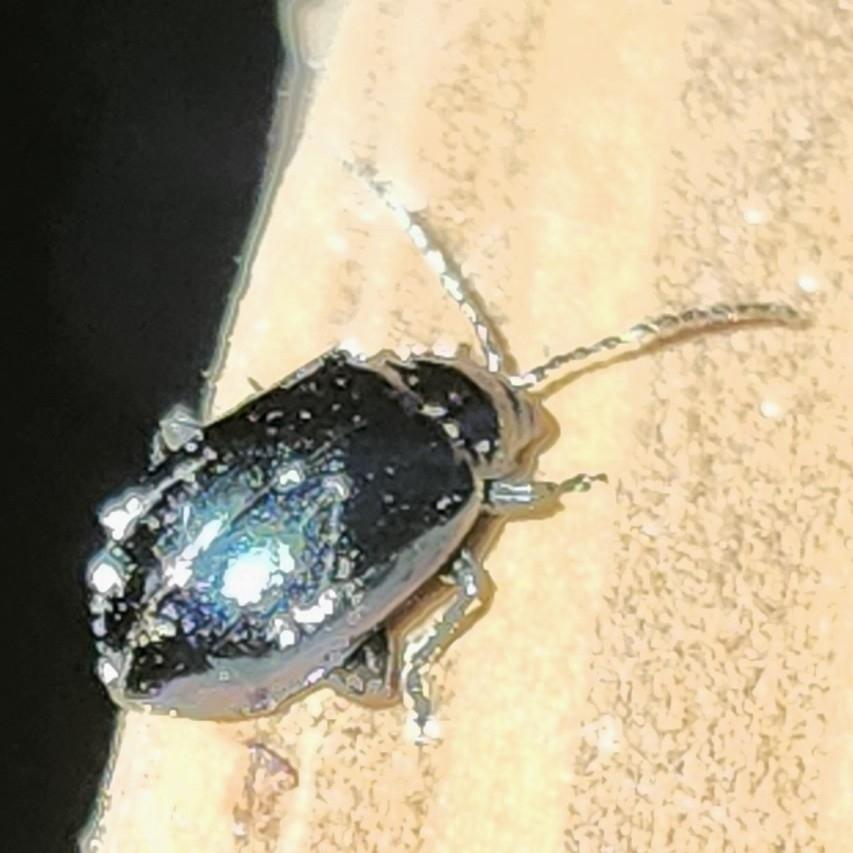flea_beetle: (11, 110, 853, 789)
